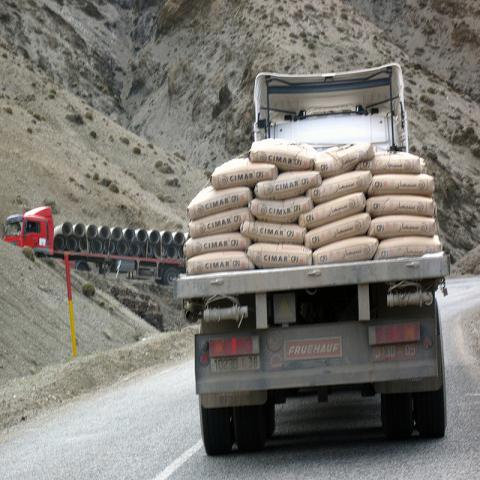truck: (175, 68, 446, 459), (4, 197, 184, 286)
